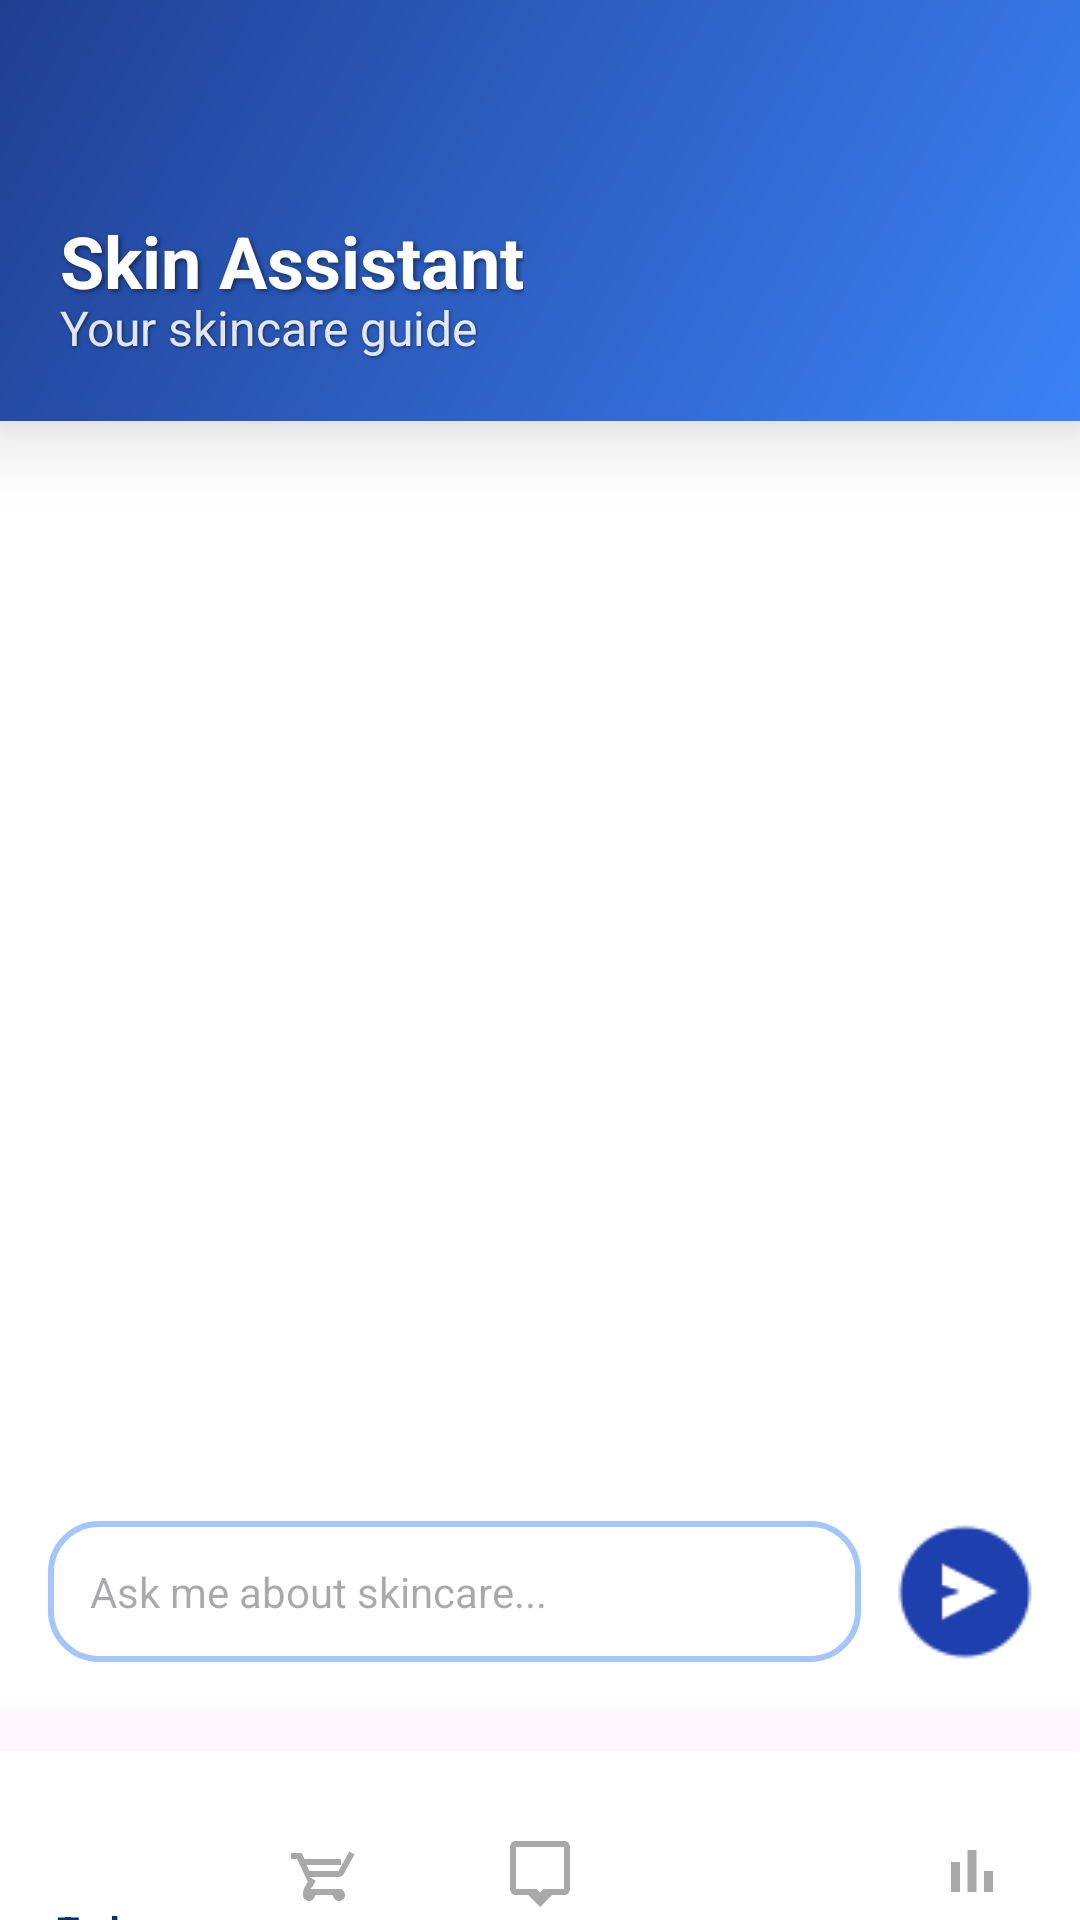

Icon bounding boxes for this 1080*1920 phone screenshot, format {"x1": x1, "y1": y1, "x2": x2, "y2": y2}:
Send: {"x1": 898, "y1": 1525, "x2": 1032, "y2": 1659}
